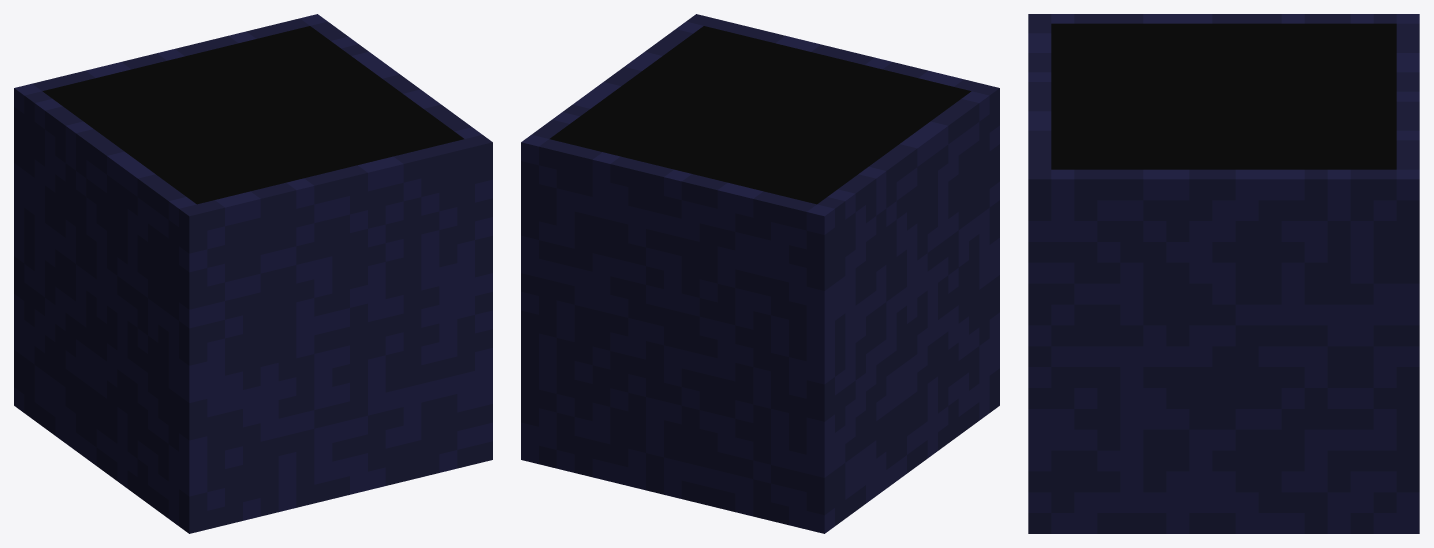
Rendered from LunaDirtTopless.obj.
3 renders of one model, left to right at view 1: azimuth 30°, elevation 25°; view 2: azimuth 150°, elevation 25°; view 3: azimuth 270°, elevation 25°, orthographic. The views are drawn at different scales.
Parts seen in each view (by area): view 1: LunaDirtTopless; view 2: LunaDirtTopless; view 3: LunaDirtTopless.
Boxes of the visible parts, x1,y1,x2,y2 form: LunaDirtTopless: [14, 14, 492, 533]; LunaDirtTopless: [521, 14, 999, 533]; LunaDirtTopless: [1028, 14, 1419, 533].
Bounding box in the file's own units: 17 × 17 × 17.
Materials: 1 (1 with a texture image).
